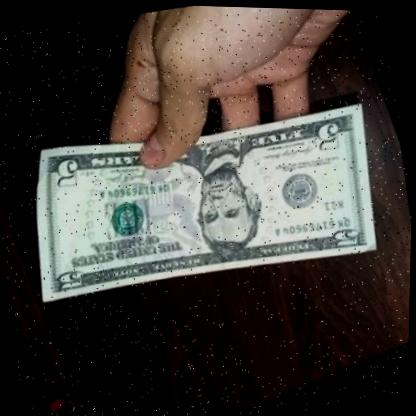five-front: (0, 6, 416, 392)
